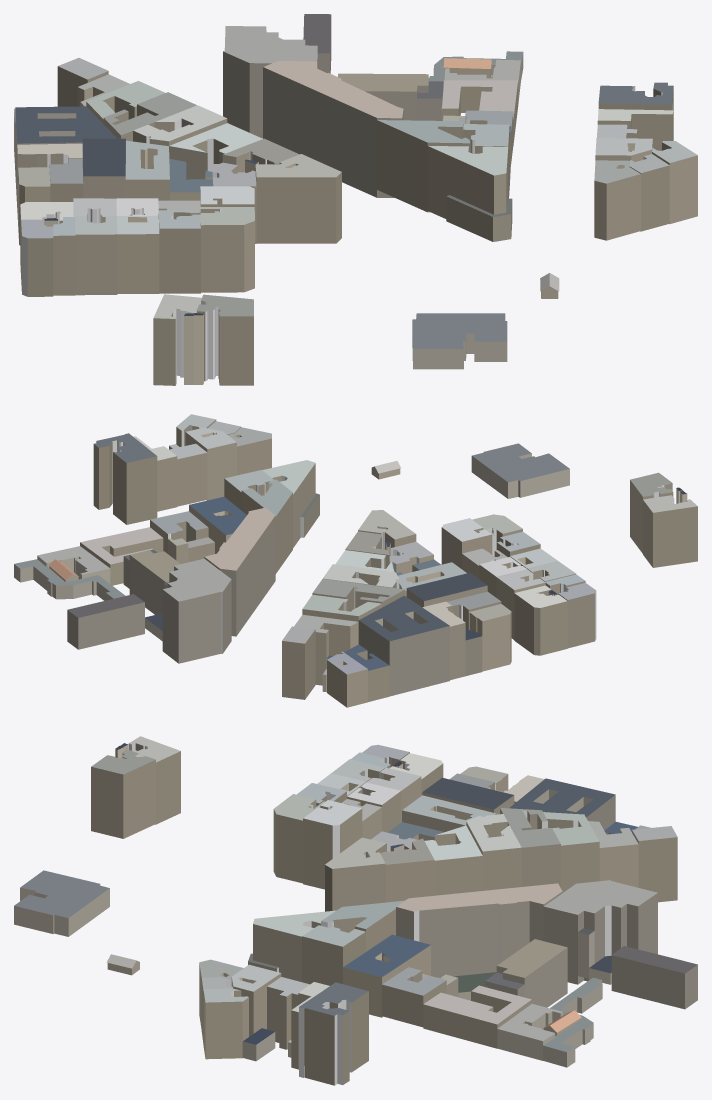
3 views of the same model, one above another, from view 1: azimuth 30°, elevation 25°; view 2: azimuth 150°, elevation 25°; view 3: azimuth 270°, elevation 25° (orthographic). The views are drawn at different scales.
Visible parts, largest first — view 1: tuile; view 2: tuile; view 3: tuile.
Part boxes in pixels (box(x1,y1,x2,y2)): tuile: box(14, 14, 697, 385); tuile: box(14, 414, 697, 707); tuile: box(14, 736, 697, 1085).
Size of the model in its own units: 272 by 33.11 by 277.
